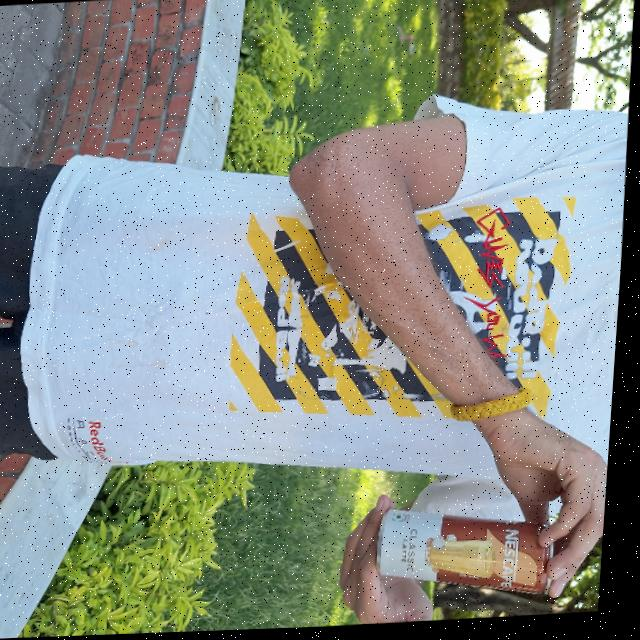Nescafe Classic Iced Latte: (383, 506, 565, 604)
